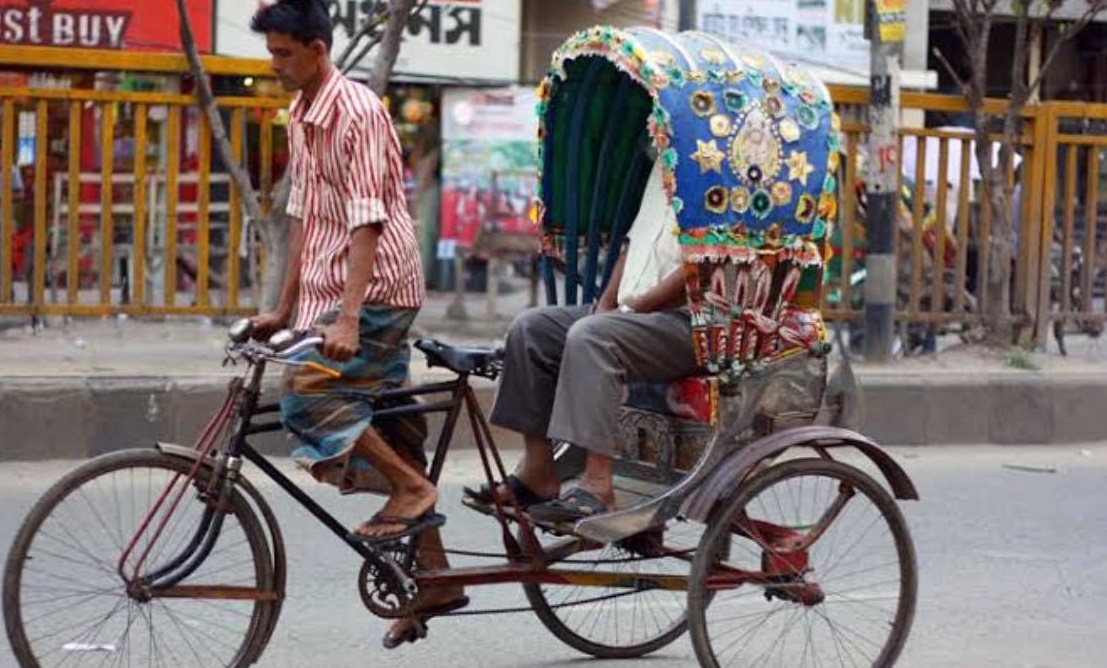Rickshaw: (7, 11, 909, 661)
